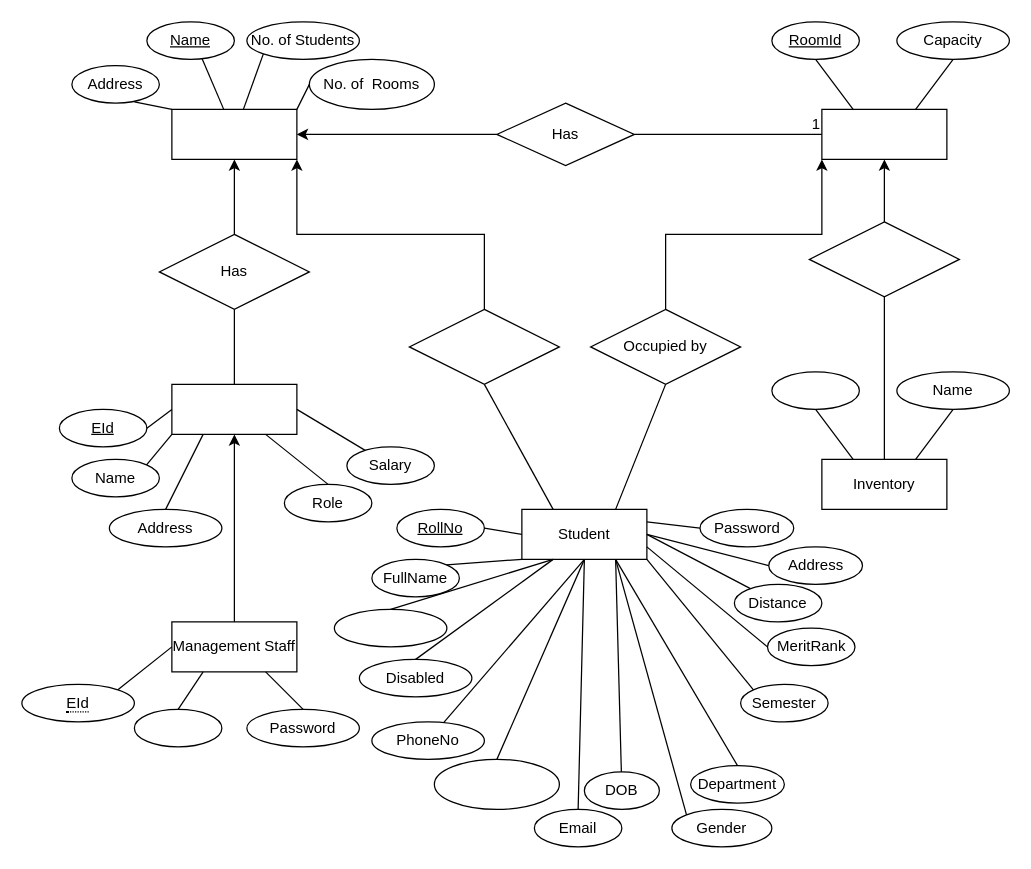
Image size: 1031x869. Some labels were removed from this diagram. The centre of each missing label's shape, as x and y in pixels:
"Applied By" belongs at pixel 483 346.
"Contains" belongs at pixel 883 259.
"Employee" belongs at pixel 234 408.
"GuardianName" belongs at pixel 390 627.
"GuardianPhoneNo" belongs at pixel 496 783.
"Hostel" belongs at pixel 234 133.
"InvID" belongs at pixel 815 390.
"LoginId" belongs at pixel 177 727.
"Rooms" belongs at pixel 884 133.
